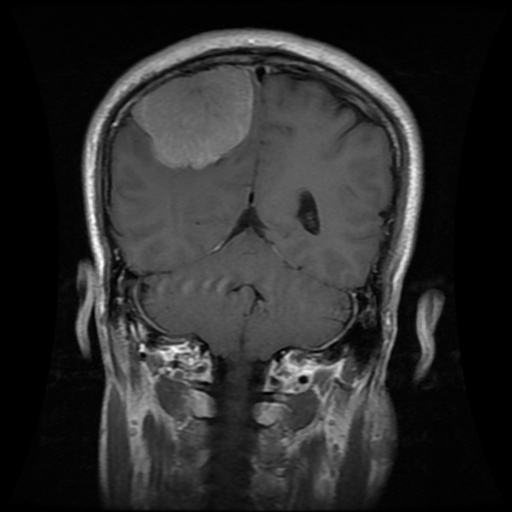meningioma: (133, 64, 254, 169)
